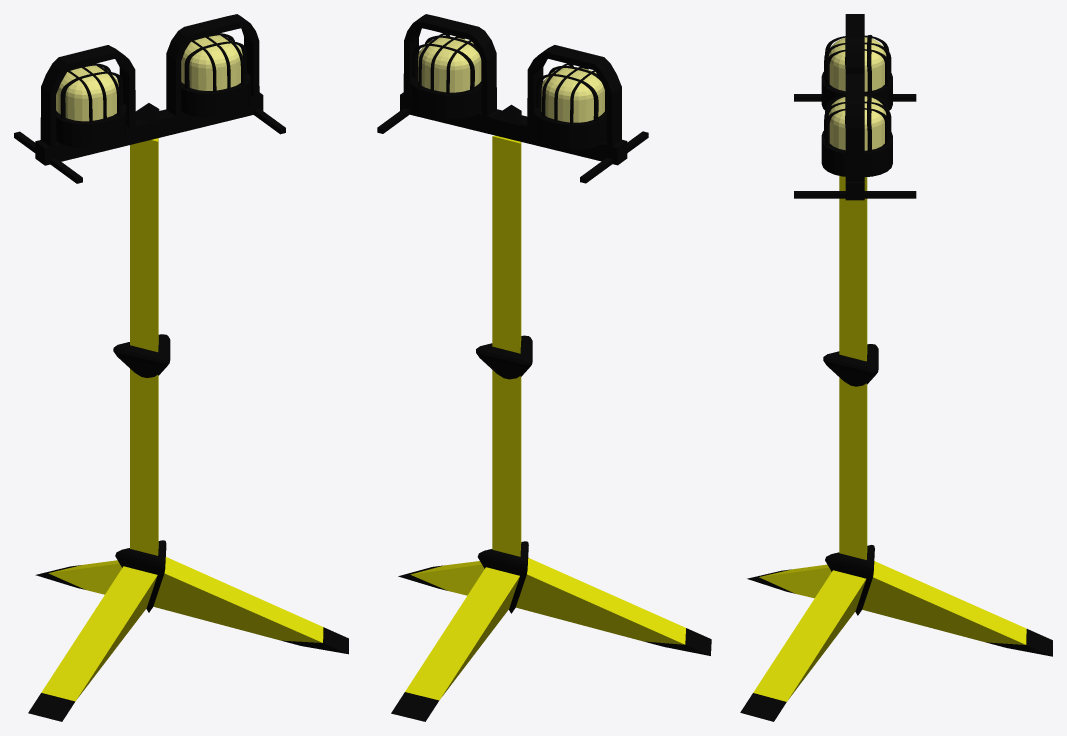
File: Light.fbx
3 views of the same model, side by side, from view 1: azimuth 30°, elevation 25°; view 2: azimuth 150°, elevation 25°; view 3: azimuth 270°, elevation 25° (orthographic). The views are drawn at different scales.
Parts seen in each view (by area): view 1: Pole, LightMounts, LightB, LightA, Feet, Center, Tripodbase; view 2: Pole, LightMounts, LightB, LightA, Feet, Center, Tripodbase; view 3: Pole, LightMounts, LightA, LightB, Feet, Center, Tripodbase.
Part boxes in pixels (x1,y1,x2,y2): Pole: (41,138,323,701); LightMounts: (14,14,285,183); LightB: (56,63,126,148); LightA: (181,33,250,117); Feet: (28,565,348,721); Center: (113,334,170,377); Tripodbase: (115,540,166,612); Pole: (405,135,685,700); LightMounts: (377,14,648,183); LightB: (534,63,606,149); LightA: (410,33,481,119); Feet: (391,565,711,721); Center: (476,335,532,379); Tripodbase: (477,541,528,613); Pole: (753,176,1026,701); LightMounts: (794,14,916,200); LightA: (821,94,892,176); LightB: (821,35,892,110); Feet: (740,569,1052,721); Center: (823,344,878,386); Tripodbase: (825,545,874,615).
Bounding box in the file's own units: 103 × 189 × 90.46.
